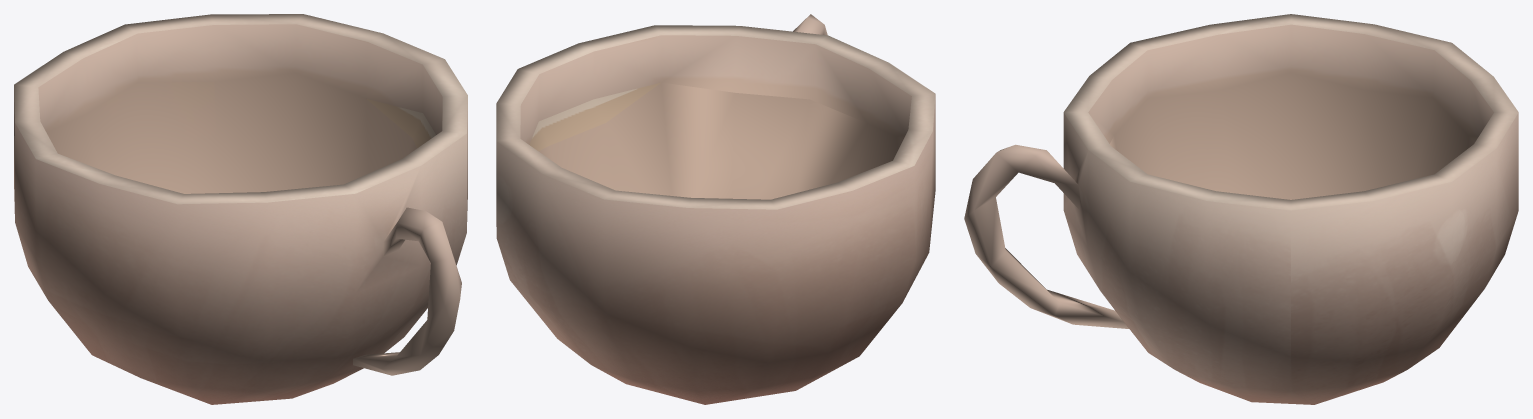
File: Coffeecup_empty.fbx
The picture shows the model from 3 angles, left to right: view 1: azimuth 30°, elevation 25°; view 2: azimuth 150°, elevation 25°; view 3: azimuth 270°, elevation 25°; orthographic projection. The views are drawn at different scales.
Visible parts, largest first — view 1: Sphere.010; view 2: Sphere.010; view 3: Sphere.010.
Part boxes in pixels (left/top/right/bottom): Sphere.010: left=14, top=14, right=467, bottom=404; Sphere.010: left=496, top=14, right=935, bottom=404; Sphere.010: left=964, top=14, right=1518, bottom=404.
Bounding box in the file's own units: 33.23 × 19.62 × 39.61.
